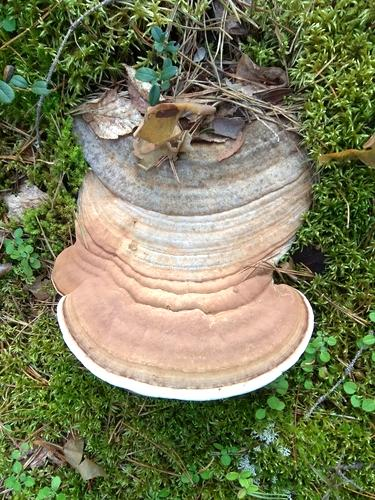Ganoderma - Fruit Body: (41, 166, 321, 408)
